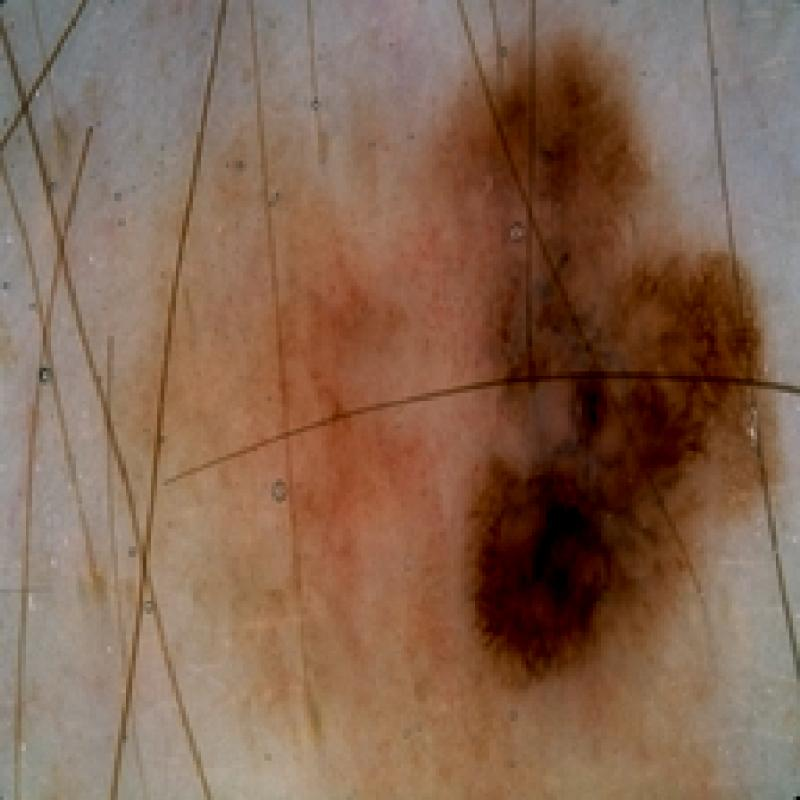malignant: (331, 25, 780, 704)
